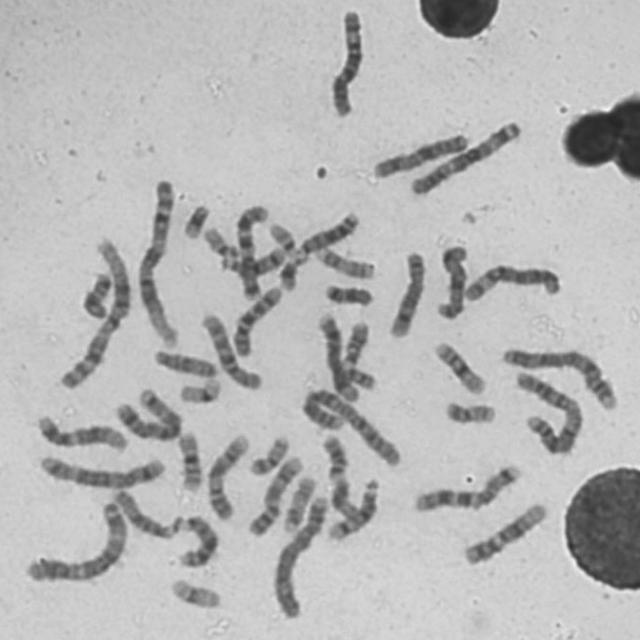A1: (54, 233, 136, 392), (132, 174, 183, 350)
A2: (298, 384, 405, 468), (508, 366, 584, 458)
A3: (19, 497, 131, 585), (405, 116, 525, 198)
B4: (498, 341, 621, 413), (268, 490, 330, 620)
B5: (34, 449, 168, 491), (110, 384, 184, 443)
C10: (196, 308, 265, 392), (227, 280, 286, 359)
C11: (317, 429, 360, 520), (332, 317, 372, 403)
C12: (458, 497, 552, 568), (31, 410, 130, 455)
C6: (324, 4, 366, 119), (460, 259, 564, 304)
C7: (408, 459, 524, 515), (230, 199, 272, 302)
C8: (314, 310, 361, 404), (384, 246, 428, 341)
C9: (243, 451, 305, 538), (202, 428, 252, 522)
D13: (292, 207, 362, 260), (169, 510, 221, 570)
D14: (323, 472, 382, 543), (215, 241, 289, 276)
D15: (108, 484, 178, 542), (149, 345, 221, 379)
E16: (428, 336, 489, 397), (172, 425, 206, 494)
E17: (310, 242, 377, 282), (278, 470, 319, 535)
E18: (78, 268, 114, 322), (320, 280, 376, 310)
F19: (166, 573, 224, 611), (174, 374, 223, 405)
F20: (245, 431, 291, 478), (440, 396, 499, 426)
G21: (275, 250, 309, 294), (178, 200, 212, 240)
G22: (199, 222, 240, 259), (264, 217, 299, 256)
X: (368, 128, 472, 180), (432, 240, 471, 322)
